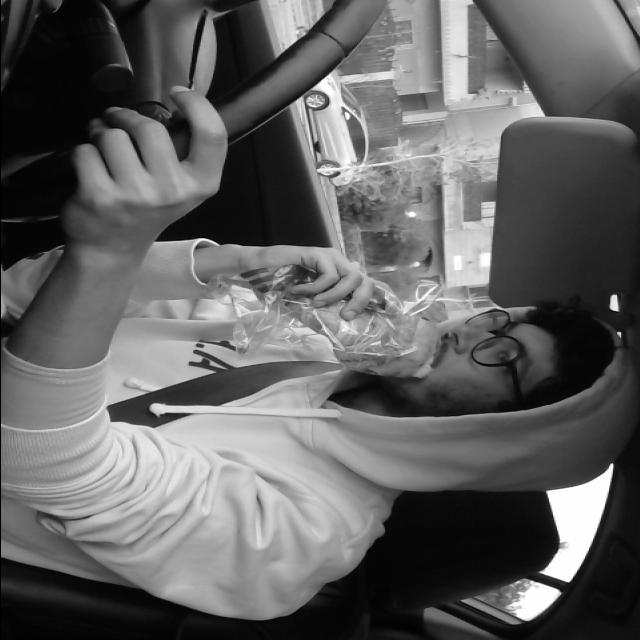eating: (288, 288, 444, 380)
